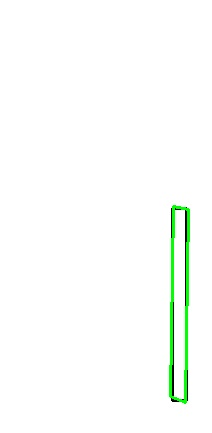line_segment: (170, 206, 189, 403)
